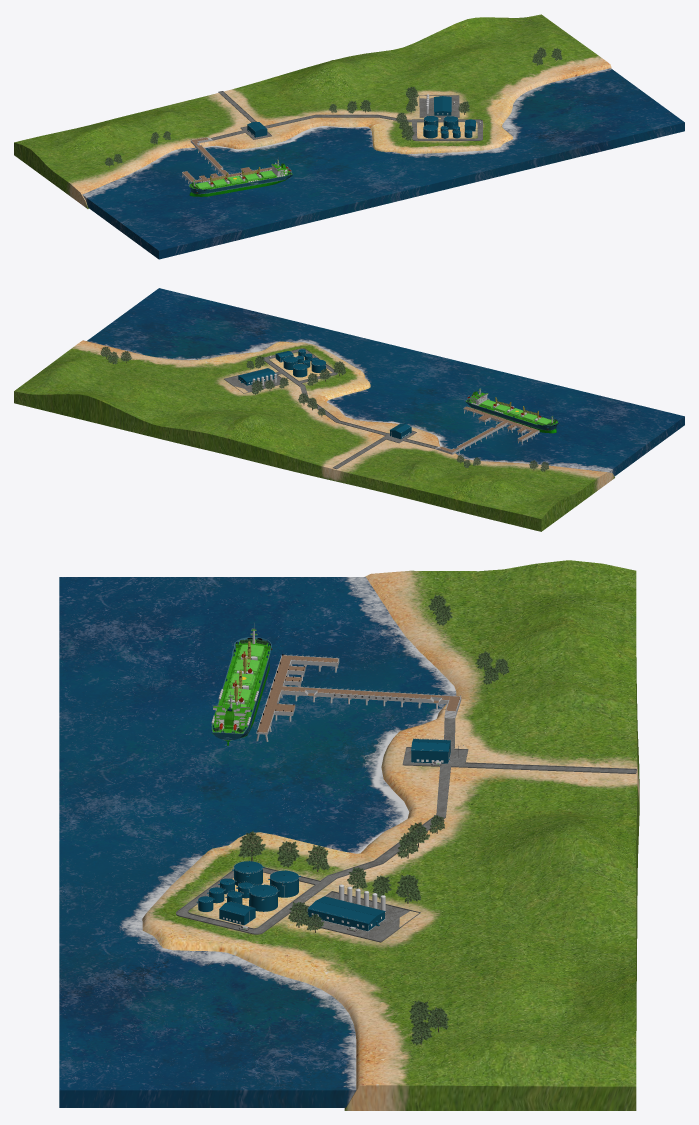
The picture shows the model from 3 angles, top to bottom: view 1: azimuth 30°, elevation 25°; view 2: azimuth 150°, elevation 25°; view 3: azimuth 270°, elevation 25°; orthographic projection. The views are drawn at different scales.
Visible parts, largest first — view 1: polySurface1, LAND:Mesh, factory_port_06:pCube1, factory_port_06:Cargo_ship_01_geo_factory_port_06:Cargo_ship, factory_port_06:Base; view 2: LAND:Mesh, polySurface1, factory_port_06:pCube1, factory_port_06:Cargo_ship_01_geo_factory_port_06:Cargo_ship, factory_port_06:Base; view 3: LAND:Mesh, polySurface1, factory_port_06:pCube1, factory_port_06:Cargo_ship_01_geo_factory_port_06:Cargo_ship, factory_port_06:Base, factory_port_06:roof, factory_port_06:walls2.
Boxes of the visible parts, x1=… form: polySurface1: x1=82, y1=68, x2=684, y2=259; LAND:Mesh: x1=14, y1=14, x2=611, y2=208; factory_port_06:pCube1: x1=211, y1=91, x2=482, y2=140; factory_port_06:Cargo_ship_01_geo_factory_port_06:Cargo_ship: x1=188, y1=157, x2=292, y2=196; factory_port_06:Base: x1=182, y1=137, x2=271, y2=182; LAND:Mesh: x1=14, y1=340, x2=614, y2=531; polySurface1: x1=87, y1=288, x2=684, y2=476; factory_port_06:pCube1: x1=224, y1=348, x2=437, y2=469; factory_port_06:Cargo_ship_01_geo_factory_port_06:Cargo_ship: x1=465, y1=388, x2=558, y2=433; factory_port_06:Base: x1=435, y1=406, x2=539, y2=454; LAND:Mesh: x1=142, y1=560, x2=639, y2=1110; polySurface1: x1=59, y1=577, x2=456, y2=1107; factory_port_06:pCube1: x1=176, y1=717, x2=636, y2=942; factory_port_06:Cargo_ship_01_geo_factory_port_06:Cargo_ship: x1=211, y1=623, x2=272, y2=745; factory_port_06:Base: x1=256, y1=655, x2=461, y2=734; factory_port_06:roof: x1=308, y1=896, x2=385, y2=924; factory_port_06:walls2: x1=411, y1=739, x2=450, y2=763.
Bounding box in the file's own units: 17.49 × 1.02 × 8.33.
Materials: 13 (7 with a texture image).
